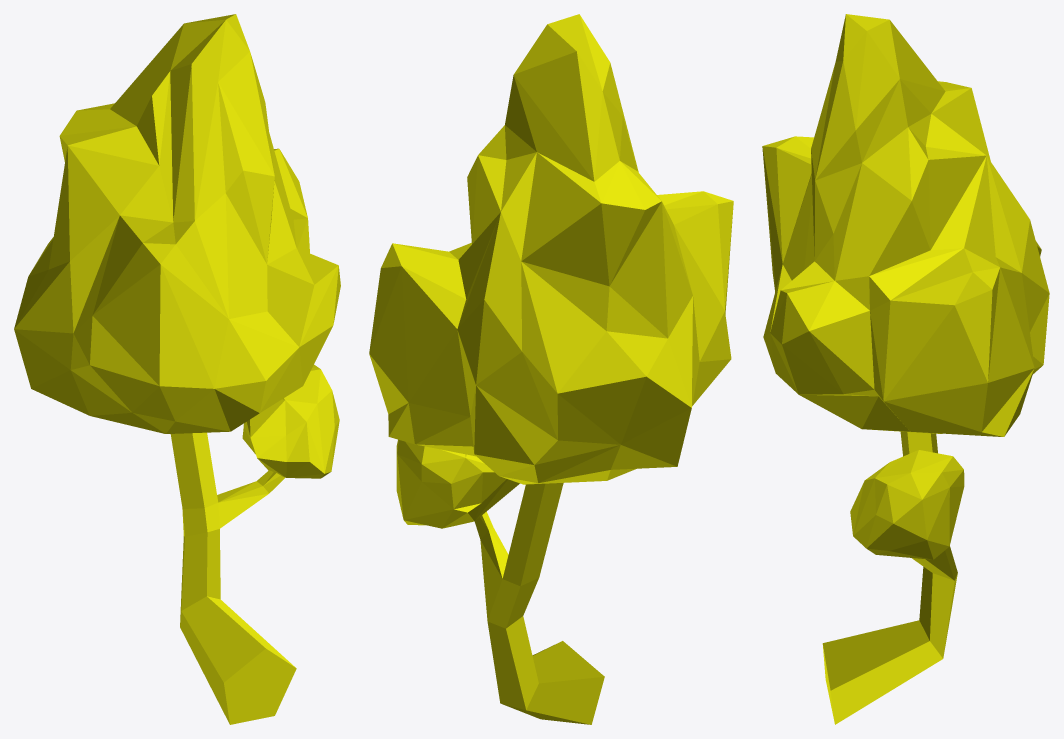
Rendered from SM_Prop_Tree_01.glb.
3 renders of one model, left to right at view 1: azimuth 30°, elevation 25°; view 2: azimuth 150°, elevation 25°; view 3: azimuth 270°, elevation 25°, orthographic. The views are drawn at different scales.
Parts seen in each view (by area): view 1: SM_Prop_Tree_01; view 2: SM_Prop_Tree_01; view 3: SM_Prop_Tree_01.
Part boxes in pixels (bbox=[...]): SM_Prop_Tree_01: bbox=[14, 14, 340, 724]; SM_Prop_Tree_01: bbox=[369, 14, 733, 724]; SM_Prop_Tree_01: bbox=[762, 14, 1049, 724].
Bounding box in the file's own units: 0.2024 × 0.4527 × 0.1708.
